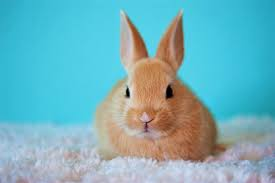rabbit: (96, 9, 217, 162)
